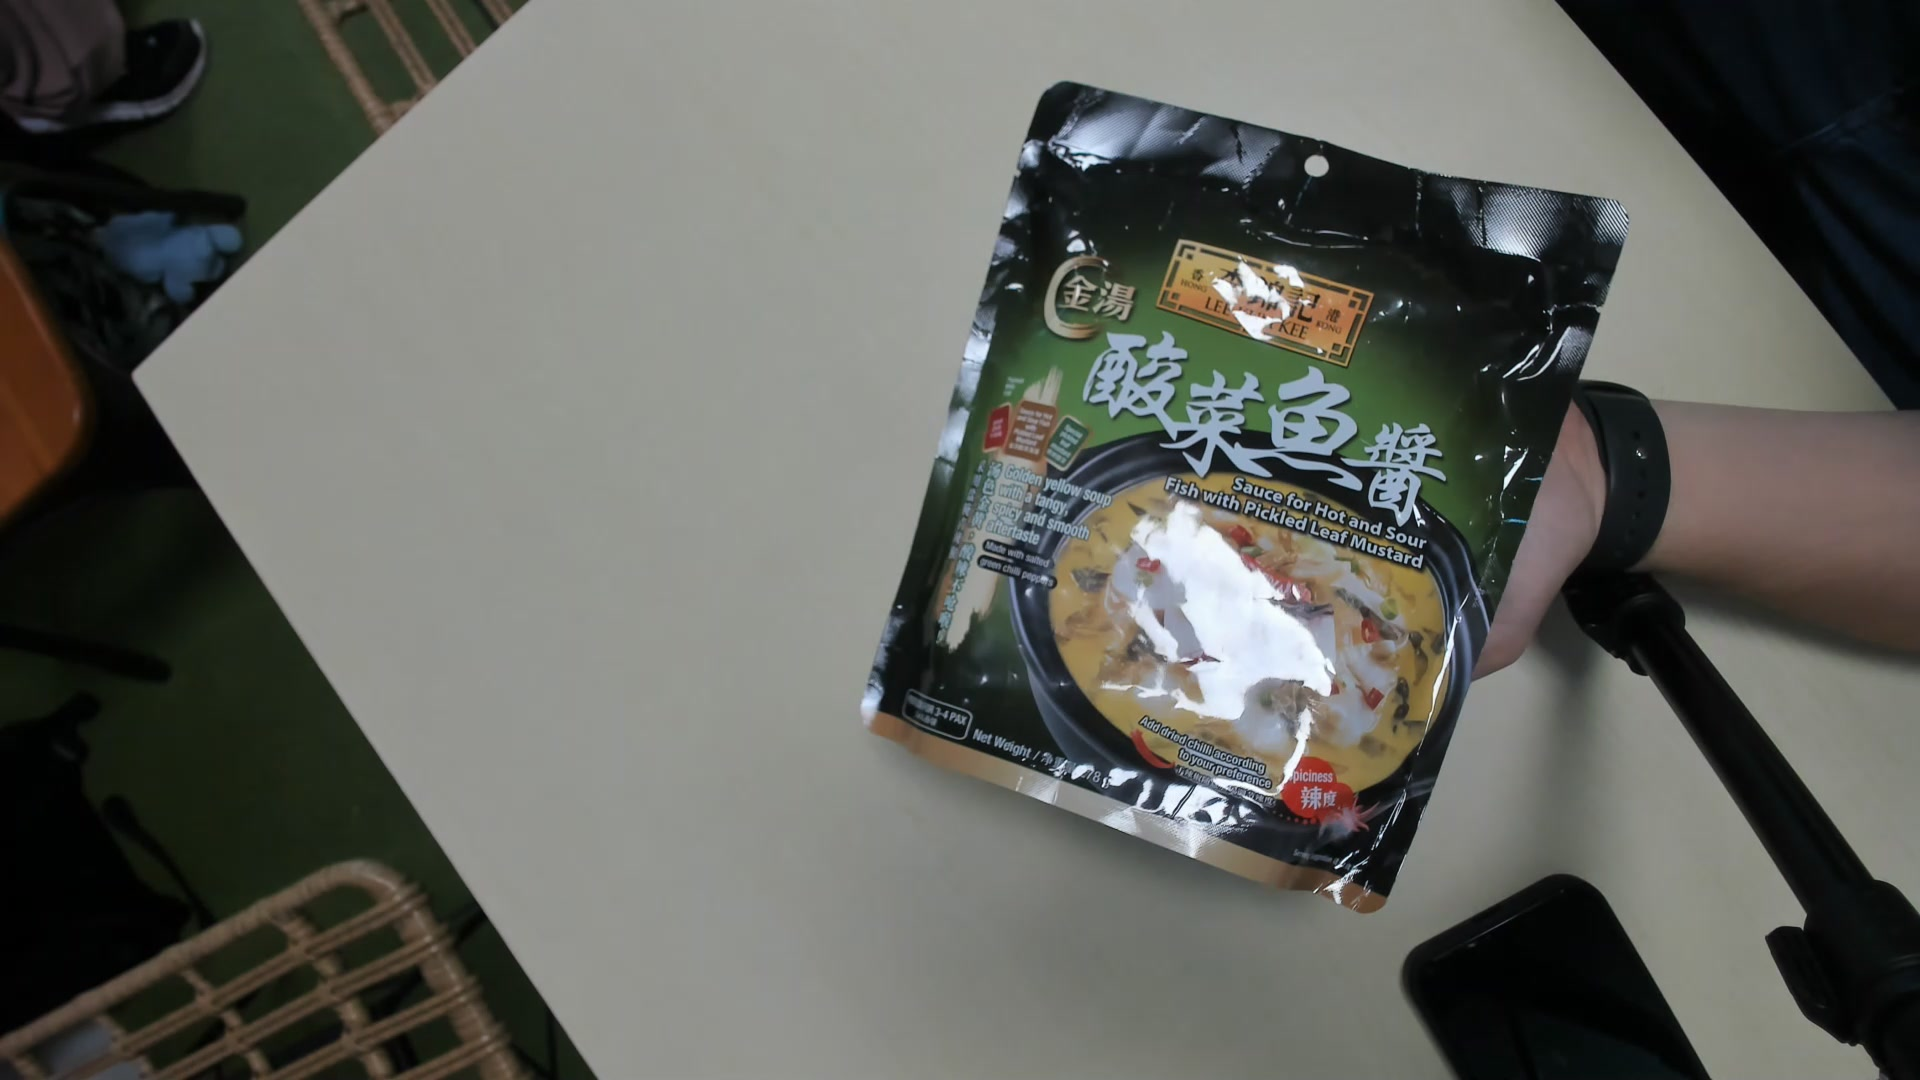OtherSauceDressing_200-299g_NonHalal_NonHealthy: (878, 88, 1625, 919)
